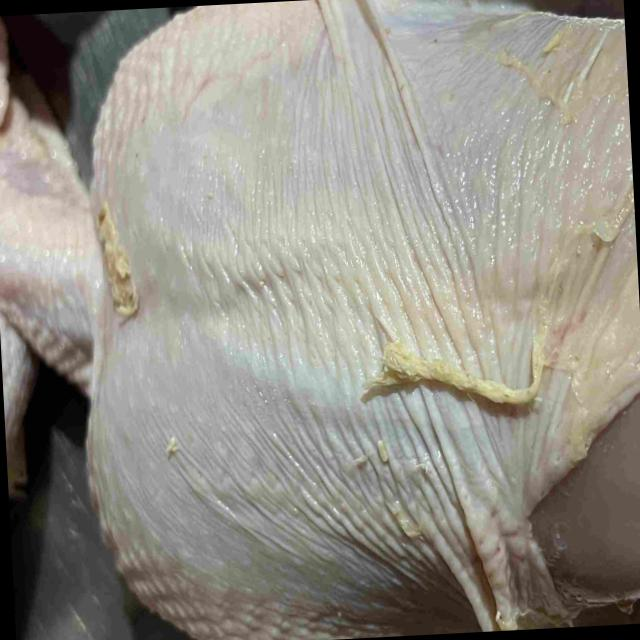breast: (86, 0, 640, 640)
neck: (0, 98, 96, 408)
